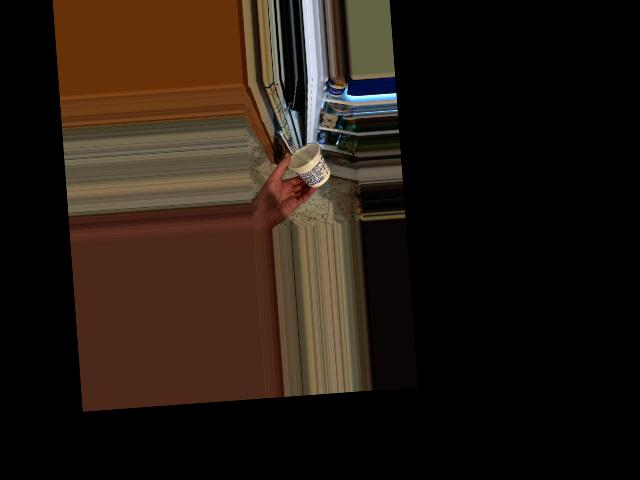cotage: (284, 142, 329, 185)
